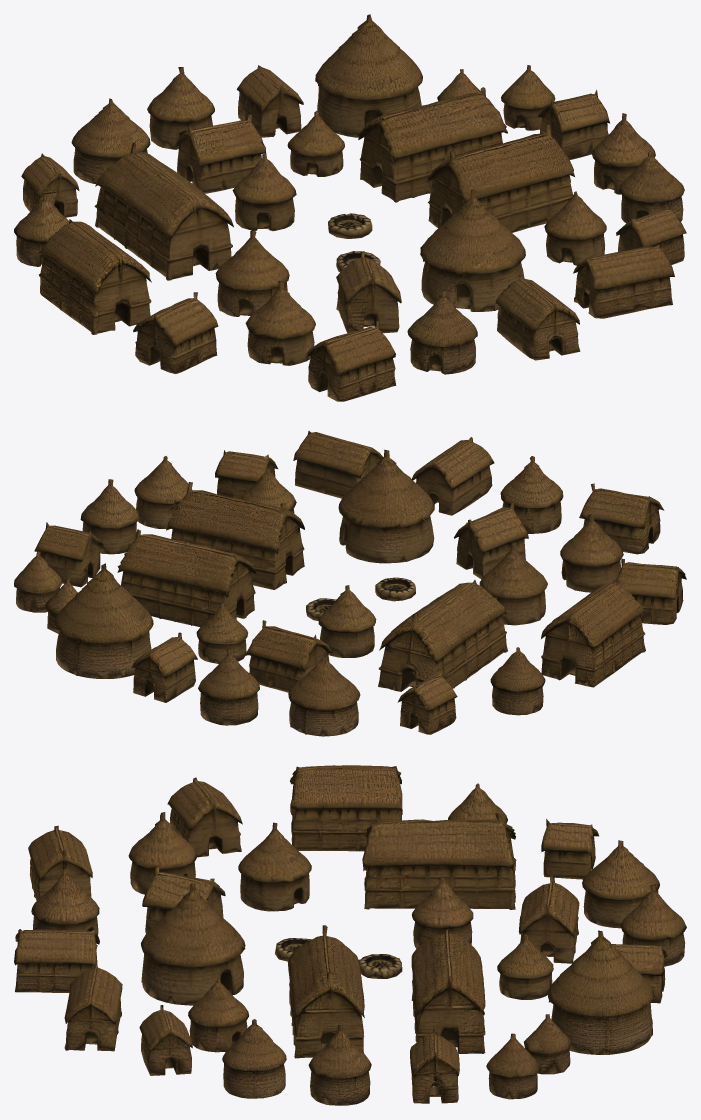
File: Prehistoric Town (Mesoamerican).fbx
3 renders of one model, top to bottom at view 1: azimuth 30°, elevation 25°; view 2: azimuth 150°, elevation 25°; view 3: azimuth 270°, elevation 25°, orthographic. The views are drawn at different scales.
Parts seen in each view (by area): view 1: tripo_node_cb9652b5; view 2: tripo_node_cb9652b5; view 3: tripo_node_cb9652b5.
Boxes of the visible parts, box(x1,y1,x2,y2) form: tripo_node_cb9652b5: box(14, 14, 686, 401); tripo_node_cb9652b5: box(14, 431, 686, 736); tripo_node_cb9652b5: box(14, 765, 686, 1105).
Bounding box in the file's own units: 0.9984 × 0.1685 × 1.
